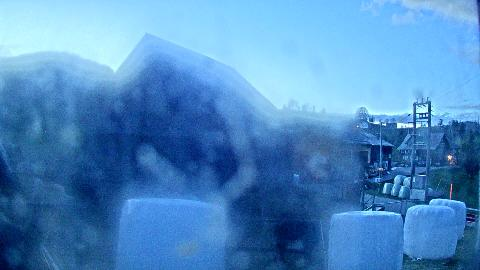car: (418, 161, 426, 167)
sheep: (0, 180, 76, 270), (273, 215, 319, 269)
